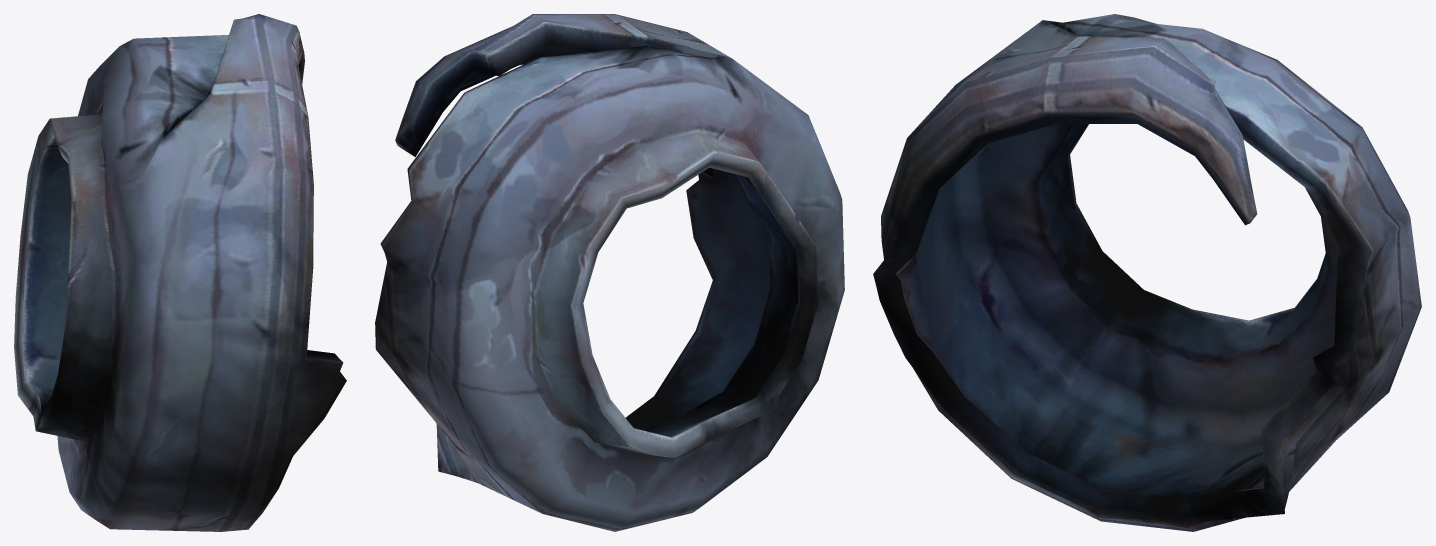
Rendered from ord_item_sav_debris_small_04.glb.
3 views of the same model, side by side, from view 1: azimuth 30°, elevation 25°; view 2: azimuth 150°, elevation 25°; view 3: azimuth 270°, elevation 25° (orthographic). The views are drawn at different scales.
Parts seen in each view (by area): view 1: ord_item_sav_debris_small_04; view 2: ord_item_sav_debris_small_04; view 3: ord_item_sav_debris_small_04.
Boxes of the visible parts, left/top/right/bottom form: ord_item_sav_debris_small_04: left=14, top=14, right=346, bottom=531; ord_item_sav_debris_small_04: left=375, top=14, right=844, bottom=531; ord_item_sav_debris_small_04: left=873, top=14, right=1421, bottom=531.
Size of the model in its own units: 0.2808 by 0.378 by 0.3764.
Materials: 1 (1 with a texture image).
